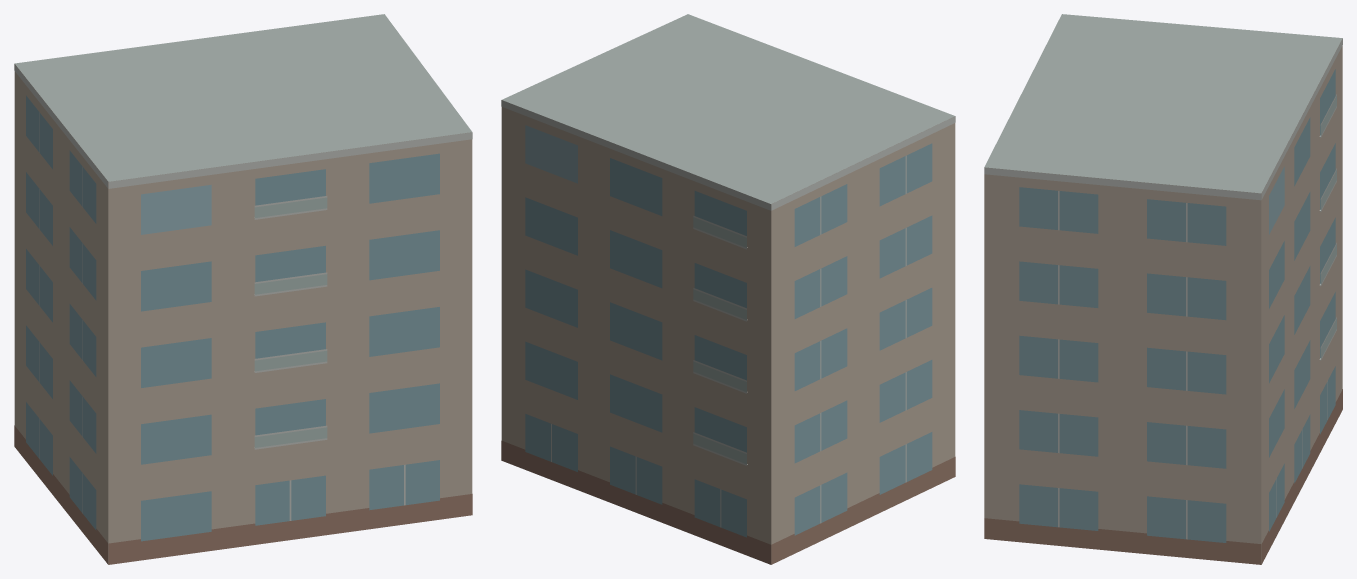
Rendered from survey-upis-32879688.glb.
3 renders of one model, left to right at view 1: azimuth 30°, elevation 25°; view 2: azimuth 150°, elevation 25°; view 3: azimuth 270°, elevation 25°, orthographic. The views are drawn at different scales.
Parts seen in each view (by area): view 1: survey-upis-32879688.tmp; view 2: survey-upis-32879688.tmp; view 3: survey-upis-32879688.tmp.
Boxes of the visible parts, left/top/right/bottom form: survey-upis-32879688.tmp: left=14, top=14, right=472, bottom=564; survey-upis-32879688.tmp: left=501, top=14, right=955, bottom=564; survey-upis-32879688.tmp: left=984, top=14, right=1342, bottom=564.
Bounding box in the file's own units: 13.58 × 13.1 × 11.47.
